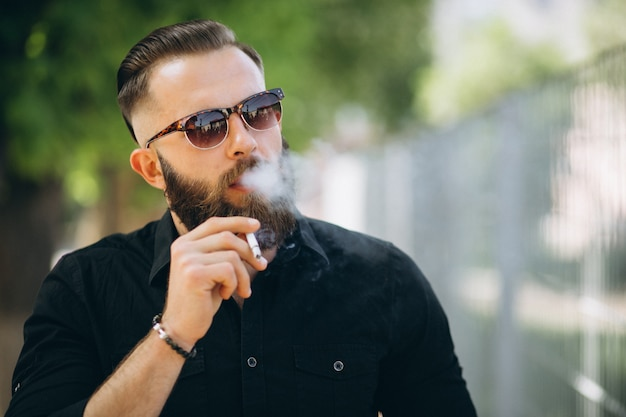cigarette: (246, 231, 262, 259)
